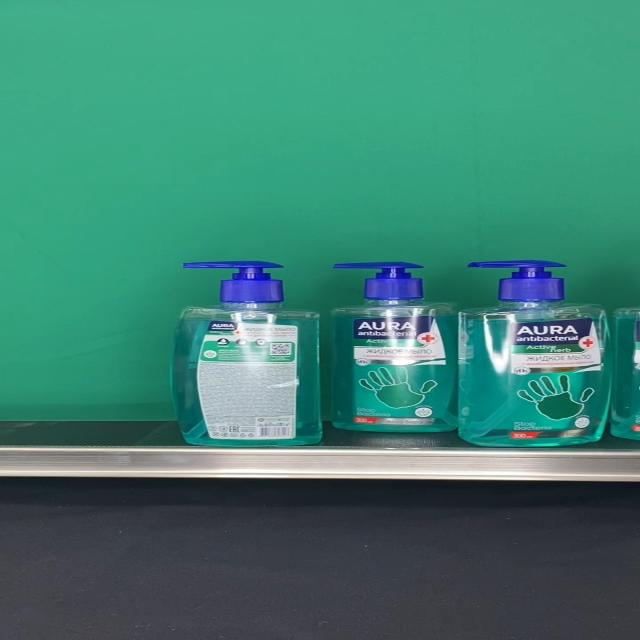Bottle: (458, 260, 612, 447), (170, 260, 322, 446), (331, 261, 458, 432)
Cap: (183, 260, 285, 302), (466, 260, 566, 302), (330, 261, 426, 299)
